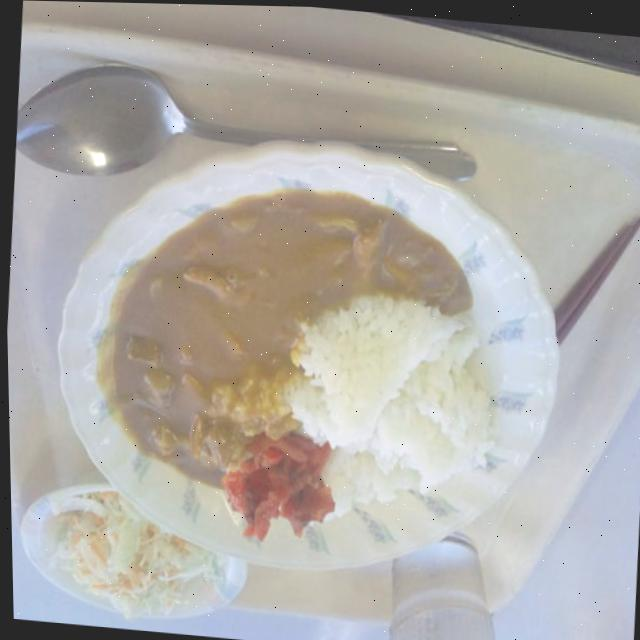牛肉菜式: (75, 153, 528, 569)
蔬菜料理: (20, 477, 241, 622)
